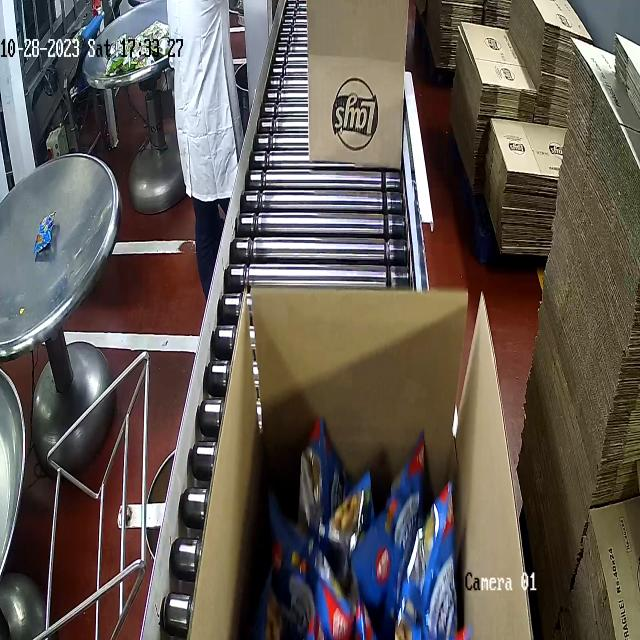PAPRIKA: (266, 430, 478, 640)
